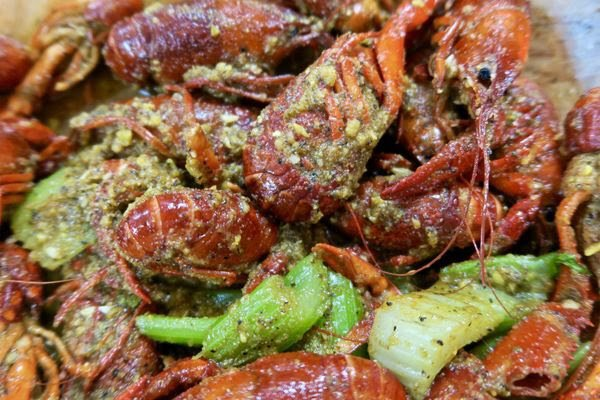sandwich: (1, 0, 596, 388)
